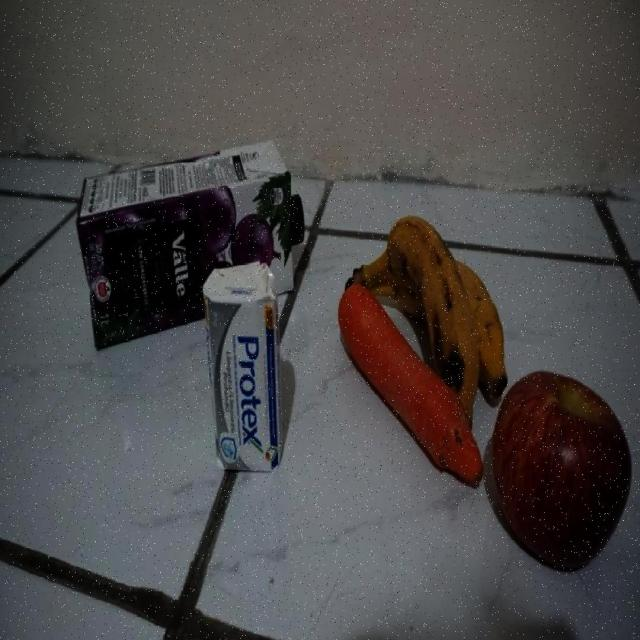Apple: (492, 368, 632, 573)
Banana: (344, 214, 508, 441)
Carrot: (338, 284, 486, 491)
Soap: (200, 260, 285, 474)
